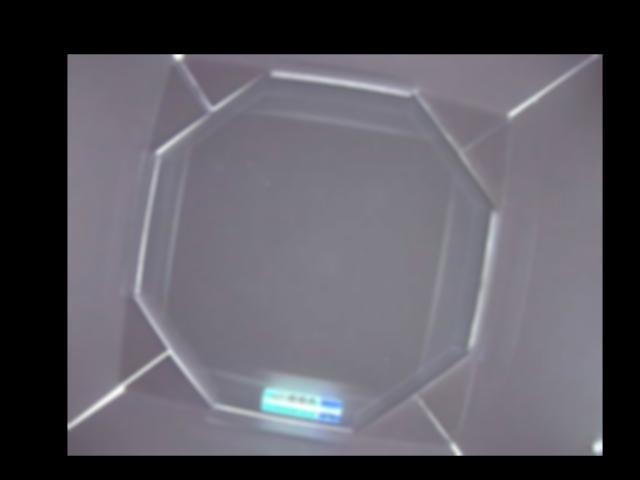Battery: (258, 387, 343, 424)
